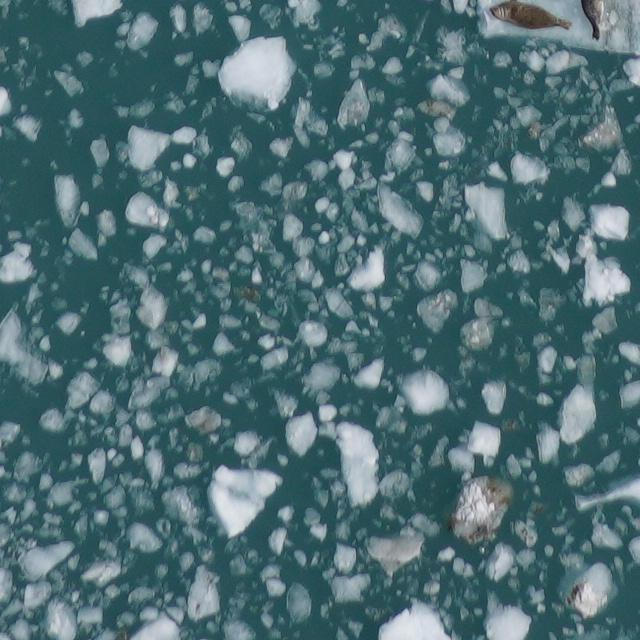seal: (487, 0, 571, 31), (580, 0, 602, 40)
